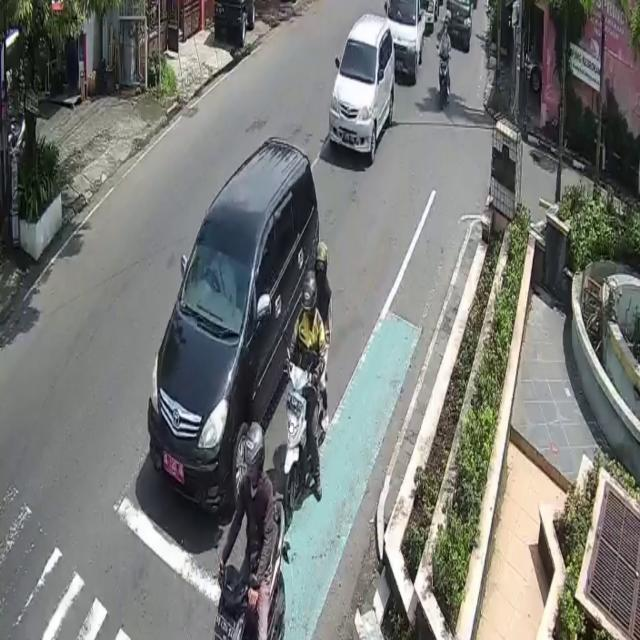car: (148, 138, 319, 511), (330, 15, 392, 164), (385, 0, 426, 82)
motorbike: (213, 493, 289, 640), (283, 348, 327, 520)
